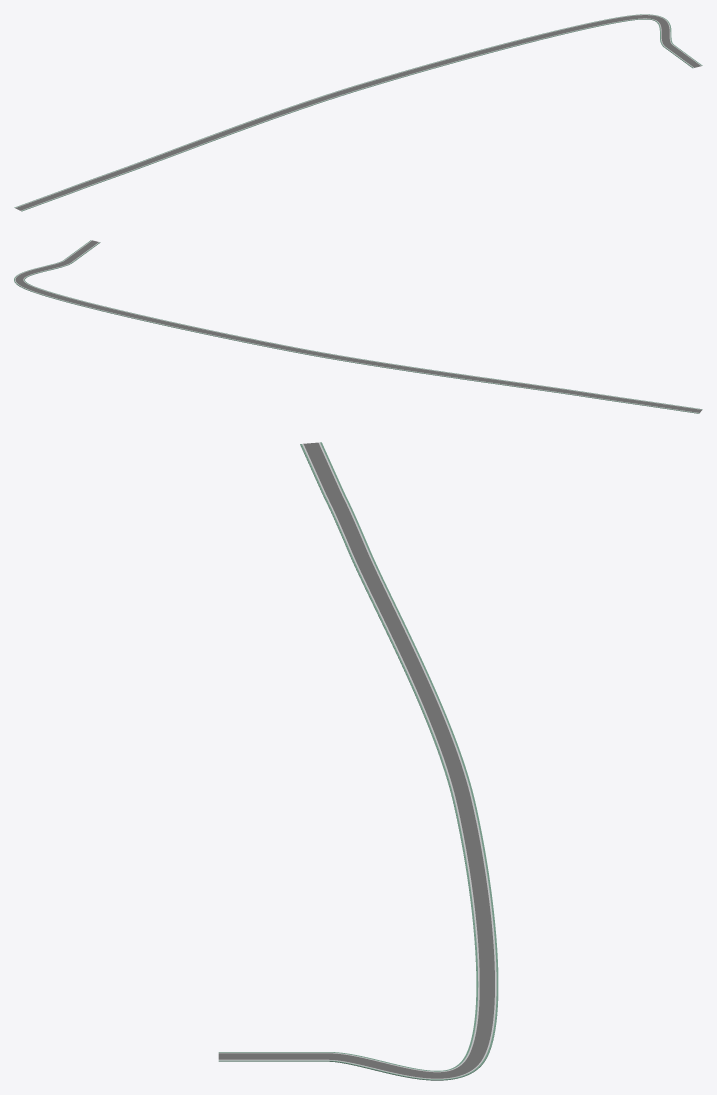
The model's file is road_roam_to_stage_harbour_sprint.glb.
3 views of the same model, one above another, from view 1: azimuth 30°, elevation 25°; view 2: azimuth 150°, elevation 25°; view 3: azimuth 270°, elevation 25° (orthographic). The views are drawn at different scales.
Parts seen in each view (by area): view 1: road; view 2: road; view 3: road.
Part boxes in pixels (<box>): road: <box>14,14,702,211</box>; road: <box>14,240,702,413</box>; road: <box>218,442,498,1080</box>.
Size of the model in its own units: 820 by 0.32 by 152.
